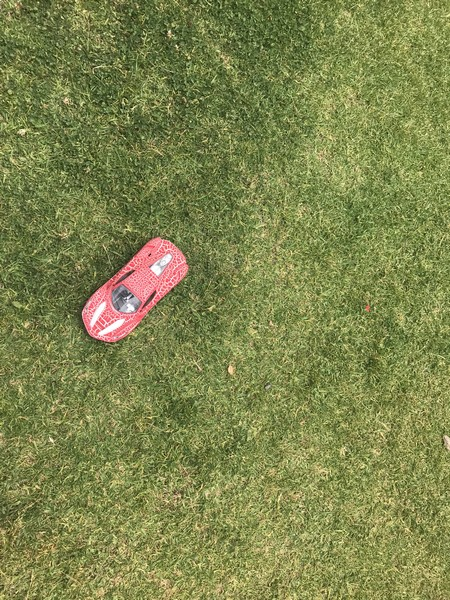RC: (78, 235, 191, 345)
